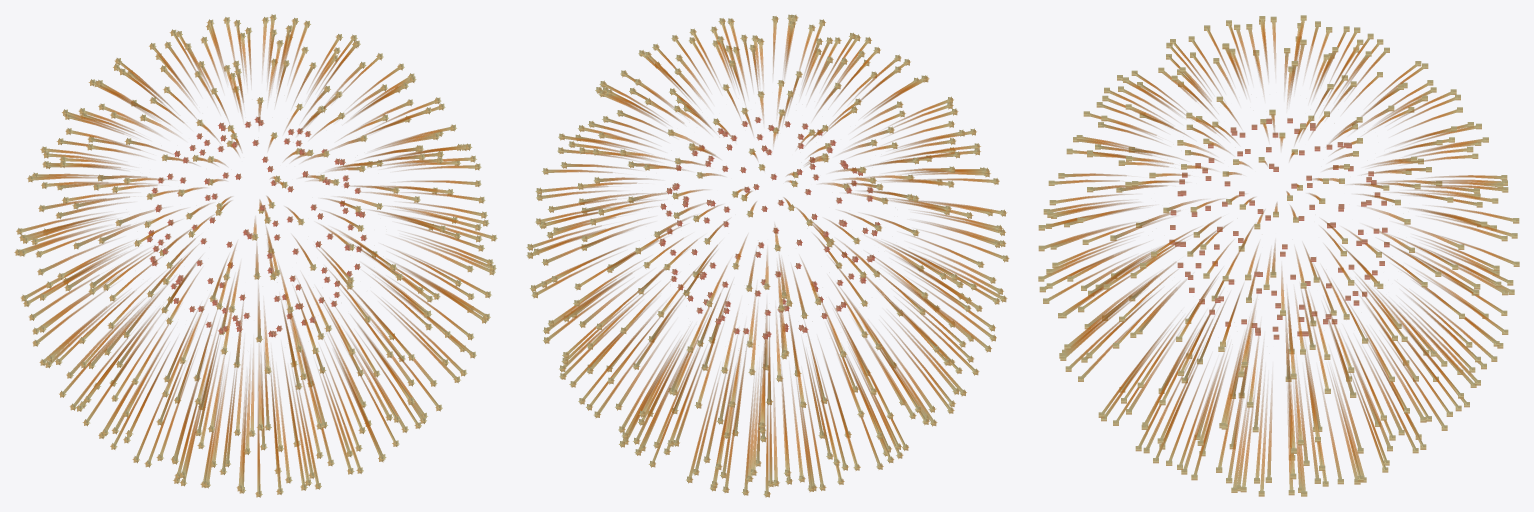
The model's file is fw_peony_red_gold_b.glb.
The picture shows the model from 3 angles, left to right: view 1: azimuth 30°, elevation 25°; view 2: azimuth 150°, elevation 25°; view 3: azimuth 270°, elevation 25°; orthographic projection.
Visible parts, largest first — view 1: spire; view 2: spire; view 3: spire.
Part boxes in pixels (x1,y1,x2,y2): spire: (14,14,497,497); spire: (526,14,1009,497); spire: (1038,15,1519,496).
Size of the model in its own units: 22.2 by 22.18 by 22.13.
Materials: 2 (2 with a texture image).
